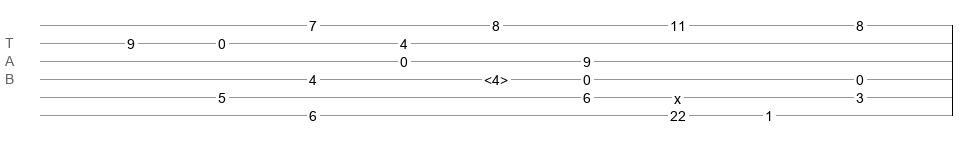0: (218, 36, 226, 46), (400, 54, 408, 64), (583, 72, 591, 82), (856, 72, 864, 82)
1: (765, 108, 773, 118)
11: (670, 18, 686, 28)
22: (670, 108, 686, 118)
3: (856, 90, 864, 100)
4: (309, 72, 317, 82), (400, 36, 408, 46)
5: (218, 90, 226, 100)
6: (309, 108, 317, 118), (583, 90, 591, 100)
7: (309, 18, 317, 28)
8: (492, 18, 500, 28), (856, 18, 864, 28)
9: (127, 36, 135, 46), (583, 54, 591, 64)
harmonic: (484, 72, 508, 82)
x: (674, 91, 681, 99)
